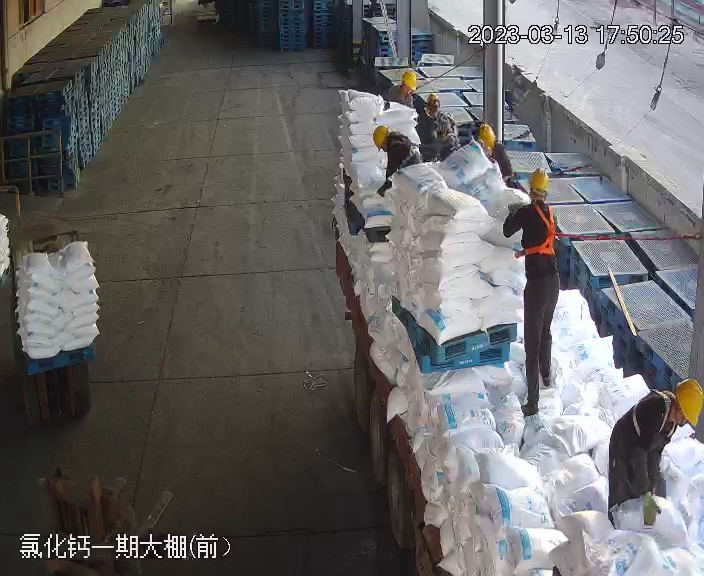belt: (522, 201, 567, 256), (627, 387, 676, 437), (431, 111, 463, 140), (392, 133, 421, 163), (392, 87, 417, 109)
head: (638, 378, 704, 444), (508, 168, 560, 231), (371, 125, 413, 164), (419, 92, 456, 131), (386, 69, 419, 106)
helmet: (675, 379, 704, 428), (477, 122, 497, 153), (527, 168, 550, 194), (371, 125, 391, 149), (400, 69, 418, 90), (426, 92, 440, 105)
people: (502, 166, 564, 419), (605, 382, 703, 526), (415, 91, 461, 163)
truck: (317, 76, 696, 566)
